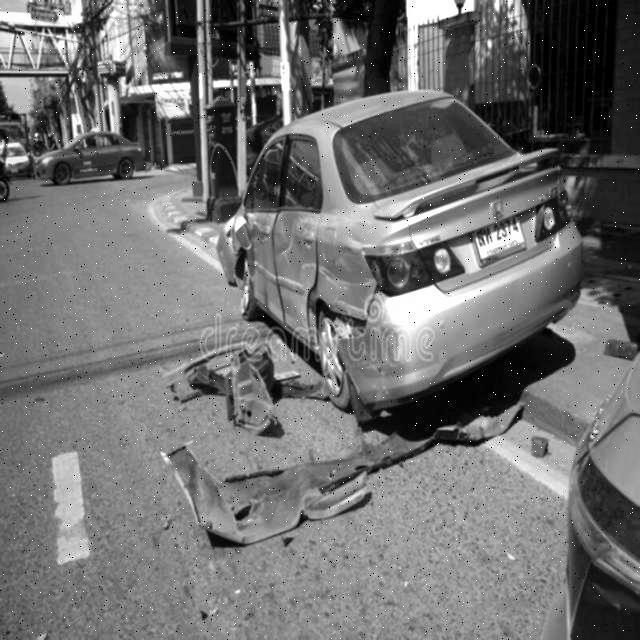doorouter-dent: (277, 213, 318, 336), (246, 212, 278, 310)
quaterpanel-dent: (320, 223, 400, 328)
rear-bumper-dent: (329, 310, 442, 415)
